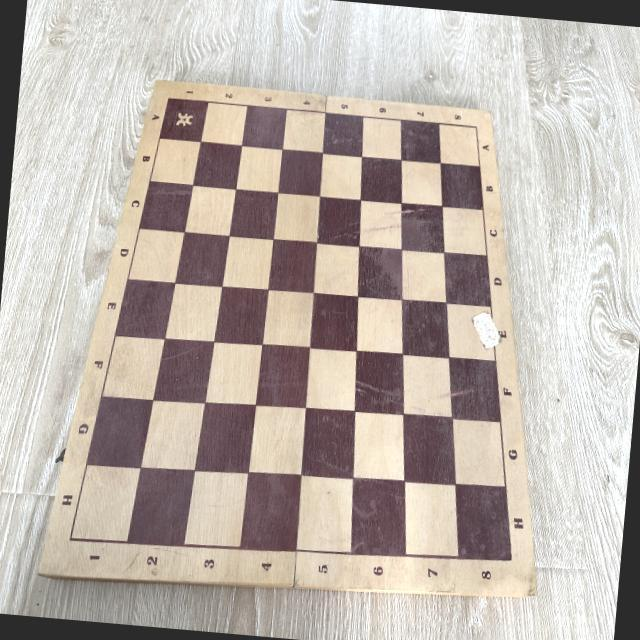chess-table-corners: (53, 524, 87, 555), (501, 544, 521, 574), (160, 90, 176, 106), (468, 120, 482, 136)
